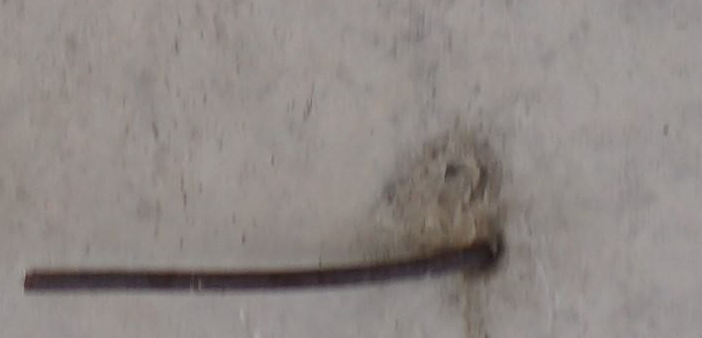Exposed reinforcement: (23, 239, 495, 293)
Spalling: (371, 126, 504, 233)
